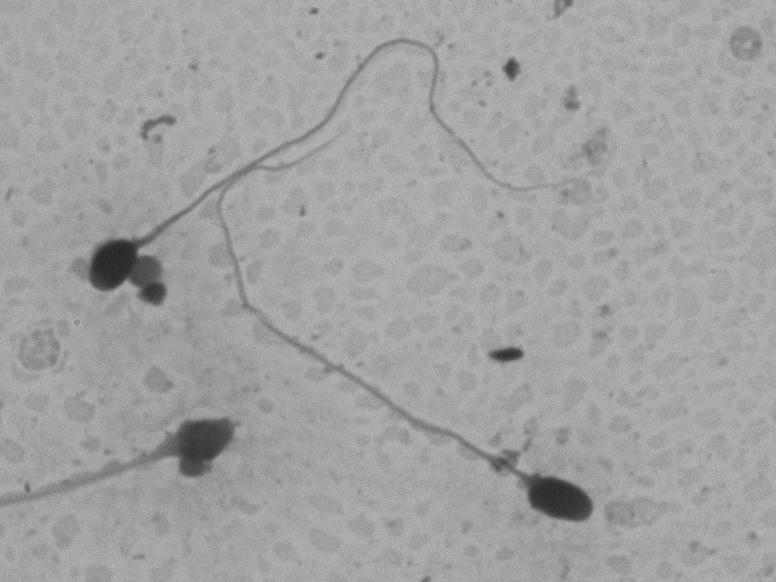Abnormal: (205, 124, 630, 540), (12, 392, 241, 536)
Normal: (80, 31, 629, 302)
